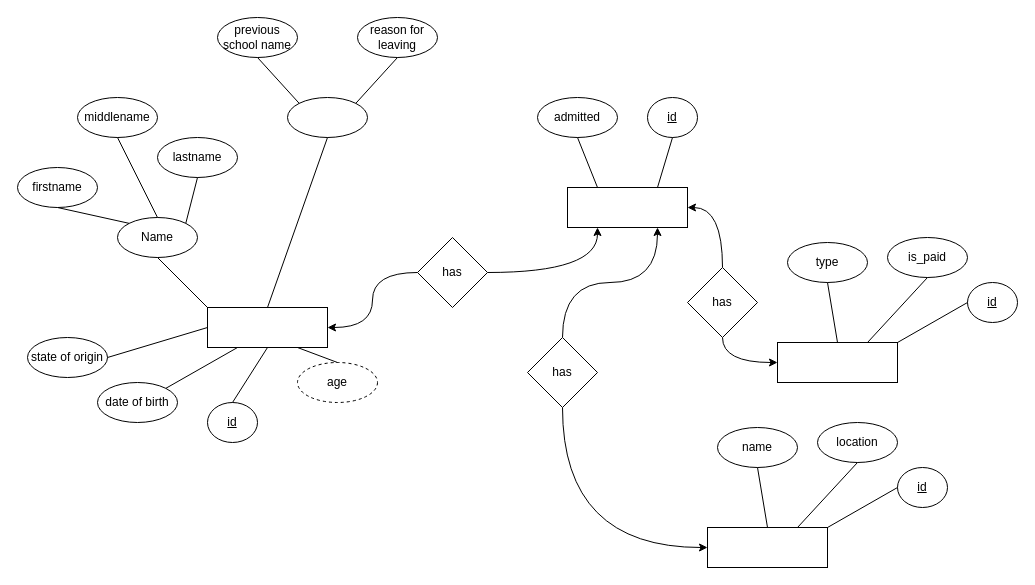
The diagram is 1035 pixels wide and 585 high, and some of its shapes have lost their labels. Each missing label, with the box of its shape:
Applications: (566, 186, 688, 228)
Education: (286, 96, 368, 138)
Fee: (776, 342, 898, 382)
School: (706, 526, 828, 568)
Student: (206, 306, 328, 348)
